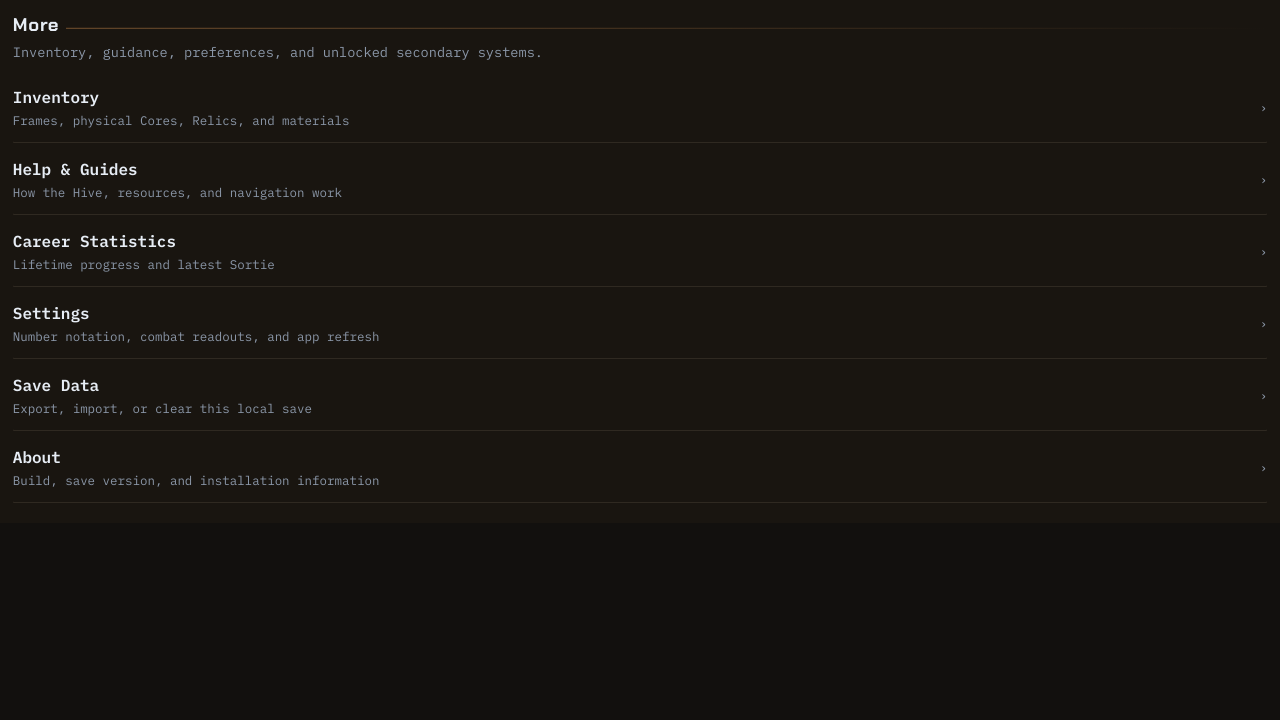
More hub navigation › reveals Career Statistics only after a completed Sortie
Click the button "Career Statistics Lifetime progress and latest Sortie ›".
click(94, 241)  # box [13,215,1267,287]
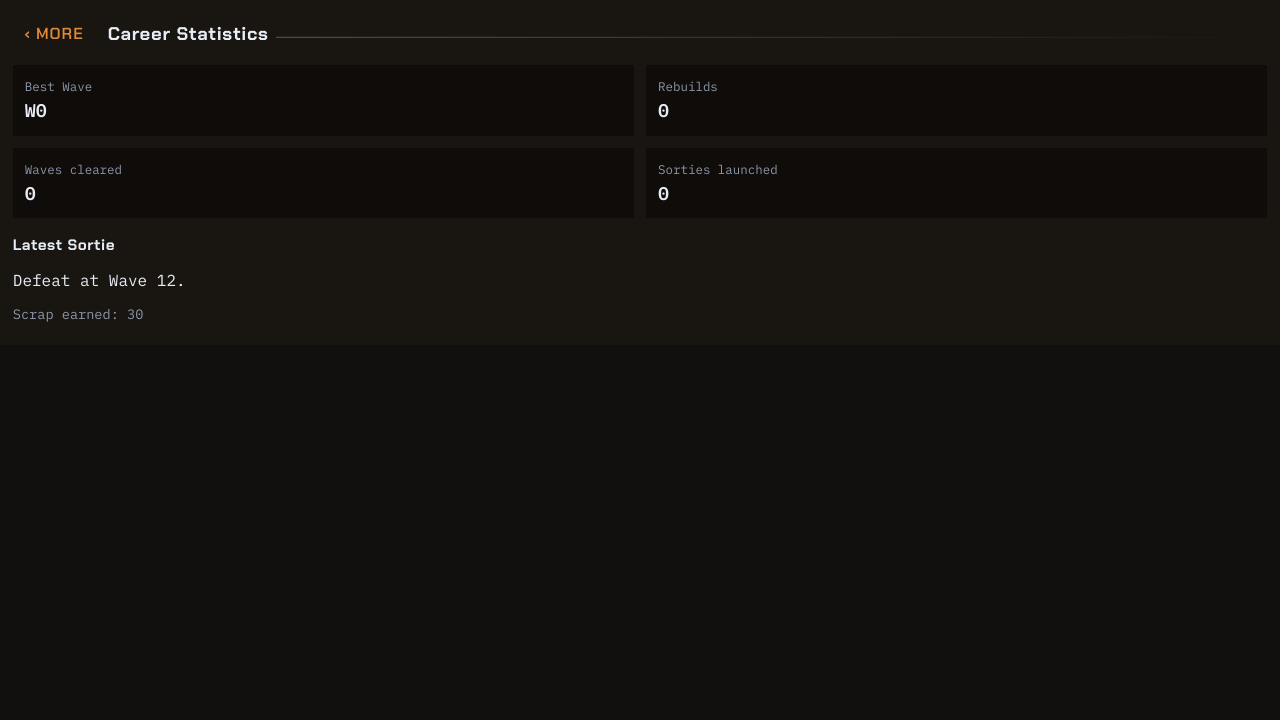
Now the heading "Career Statistics" is shown, box [108,22,269,46]
Now the text "Defeat at Wave 12." is shown, box [13,270,186,290]
